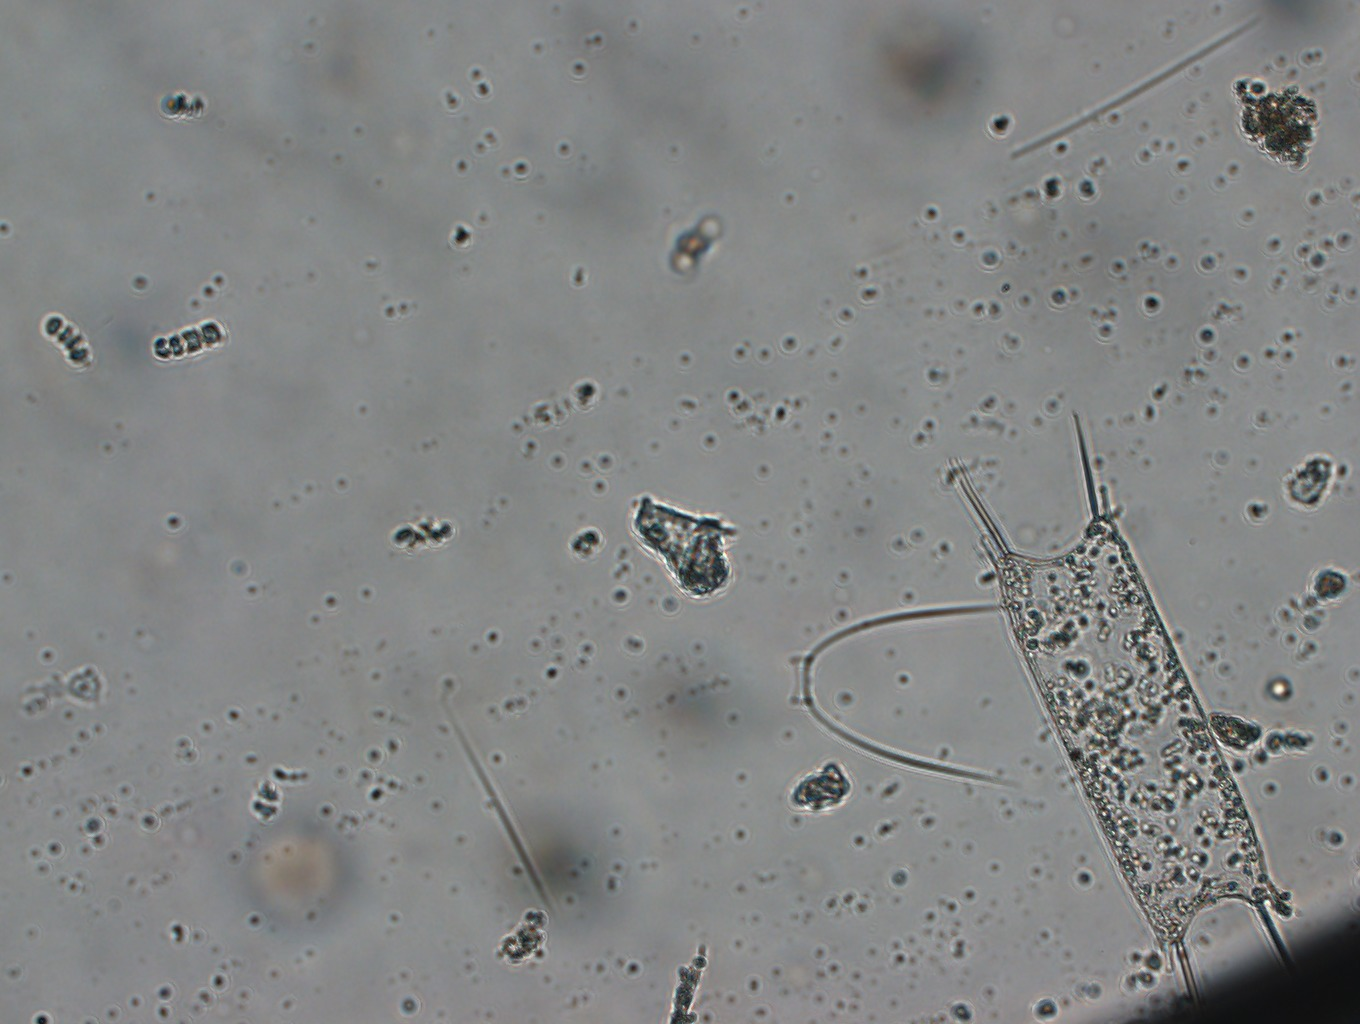biddulphia: (939, 421, 1288, 969)
